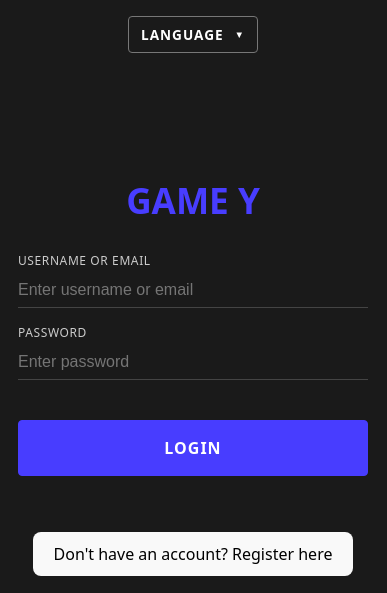
RegisterForm › handles network failure
This screenshot has width=387, height=593.
Type "Pablo" into the field labelled "Username or Email" at coordinates (193, 291), box [18,273,368,308]
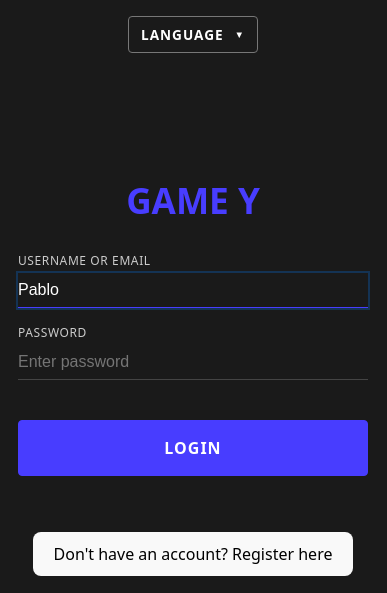
Type "secret" into the password field labelled "Password" at coordinates (193, 363), box [18,346,368,380]
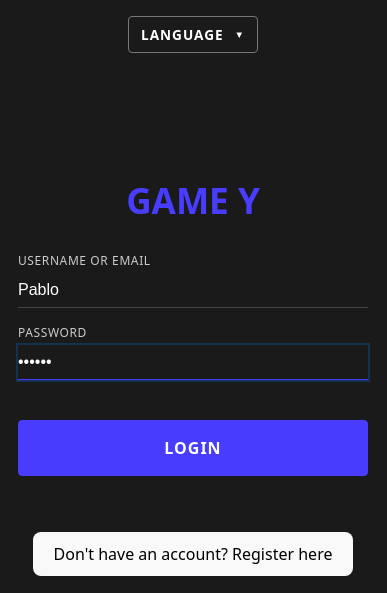
Click the button "LOGIN" at coordinates (193, 448), box [18,420,368,476]
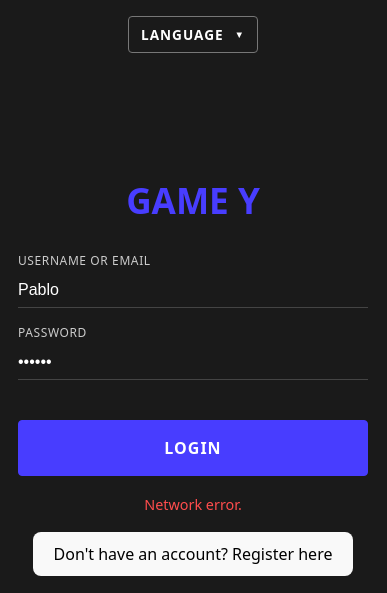
Now the text "Network error." is shown, box [144,494,242,515]
